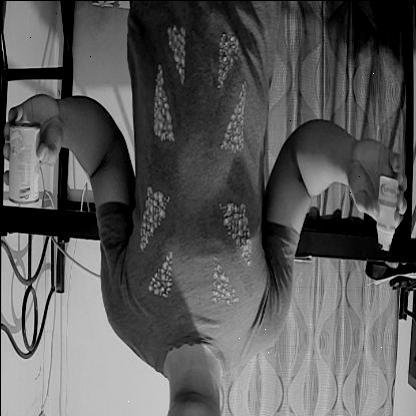Others: (364, 170, 407, 257)
